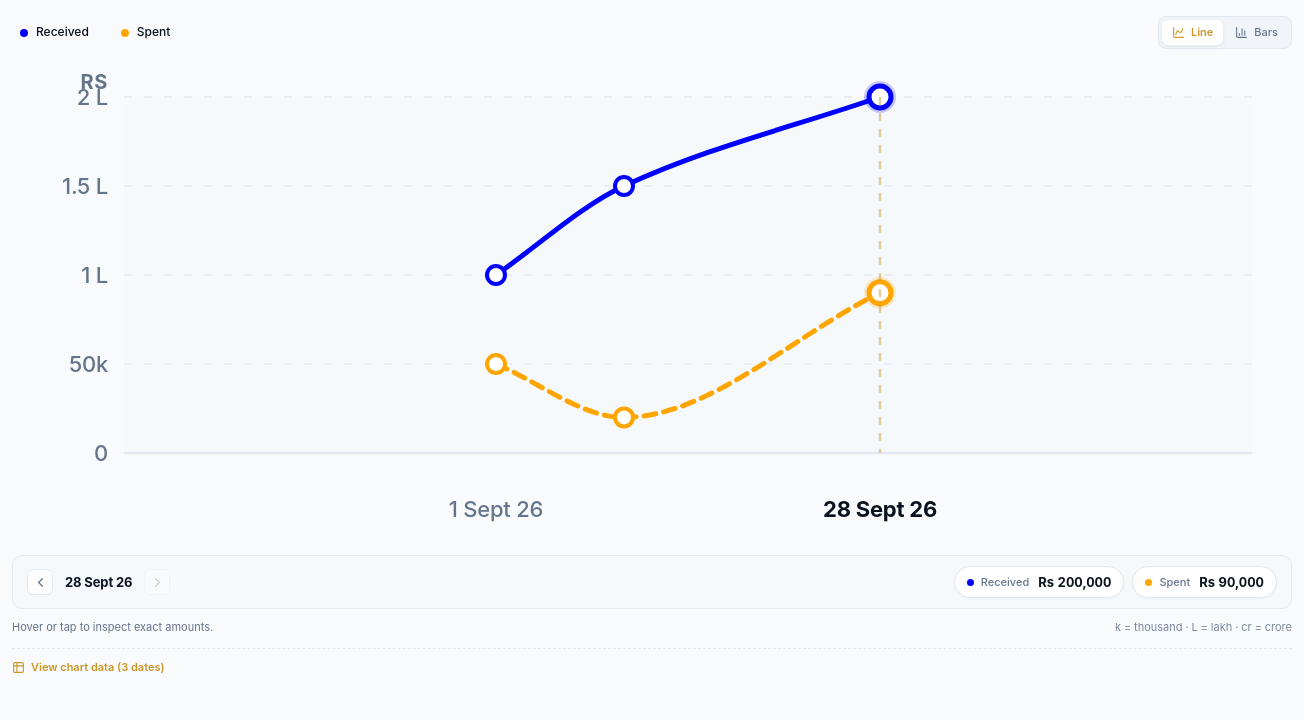
Scenario: shared charts › shows exact amounts, supports keyboard inspection, and changes chart type
The width and height of the screenshot is (1304, 720).
Expected: the text "Rs 200,000" is shown, x1=1038 y1=572 x2=1111 y2=592
Press ArrowLeft in the element named "Explore chart"
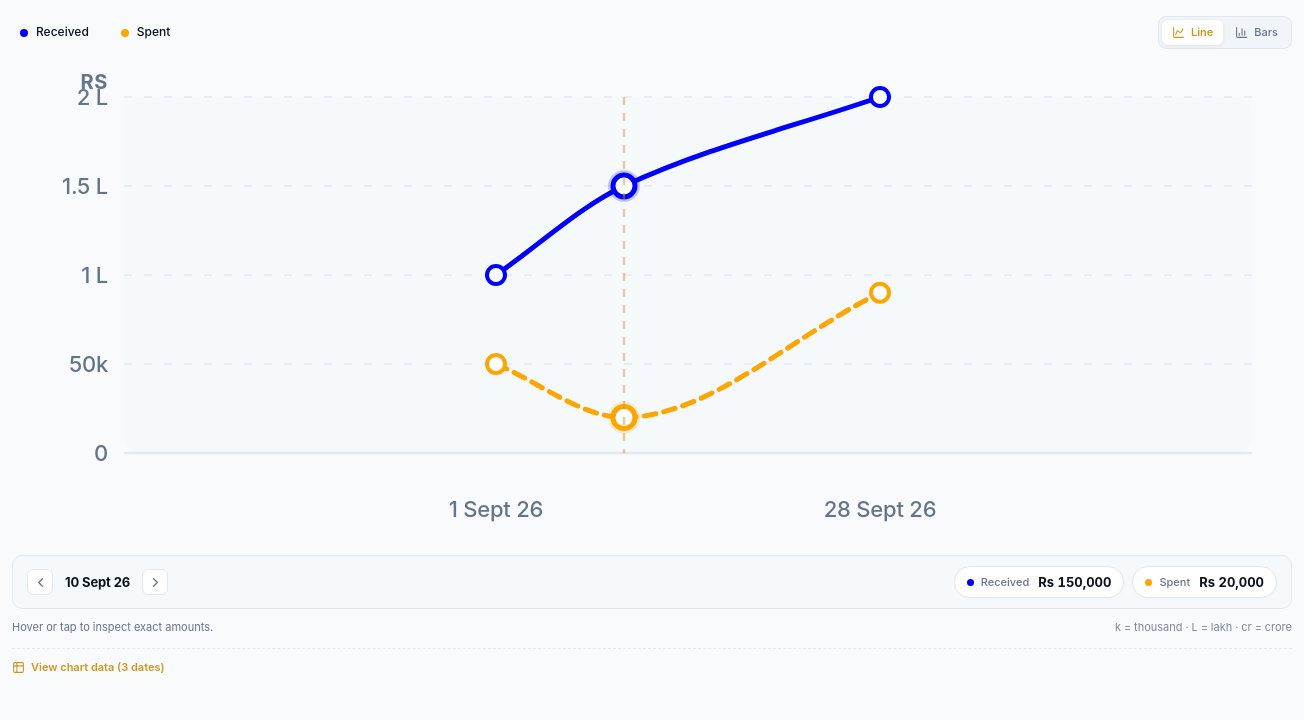
Result: the text "Rs 150,000" is shown at x1=1038 y1=572 x2=1111 y2=592
Press Home in the element named "Explore chart"
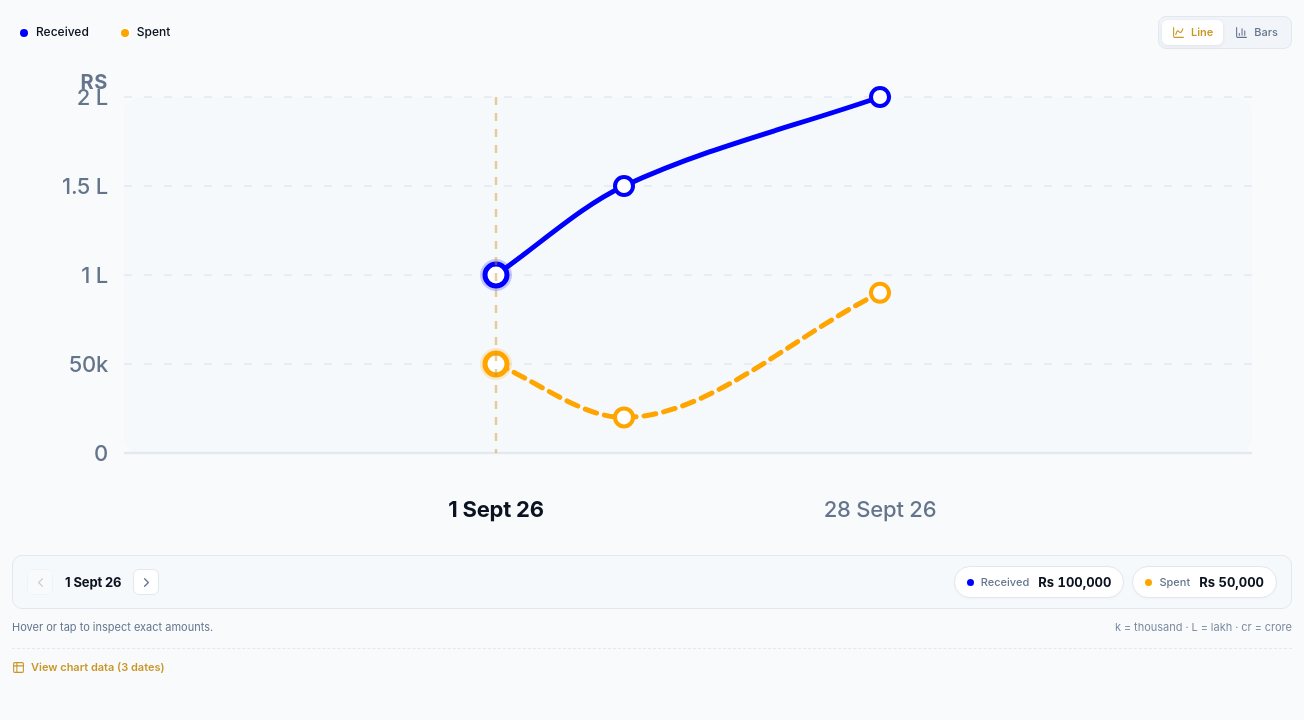
Result: the text "Rs 100,000" is shown at x1=1038 y1=572 x2=1111 y2=592
Click the button with aria-label "Show bar chart" at x=1257, y=32, box x1=1225 y1=20 x2=1288 y2=45
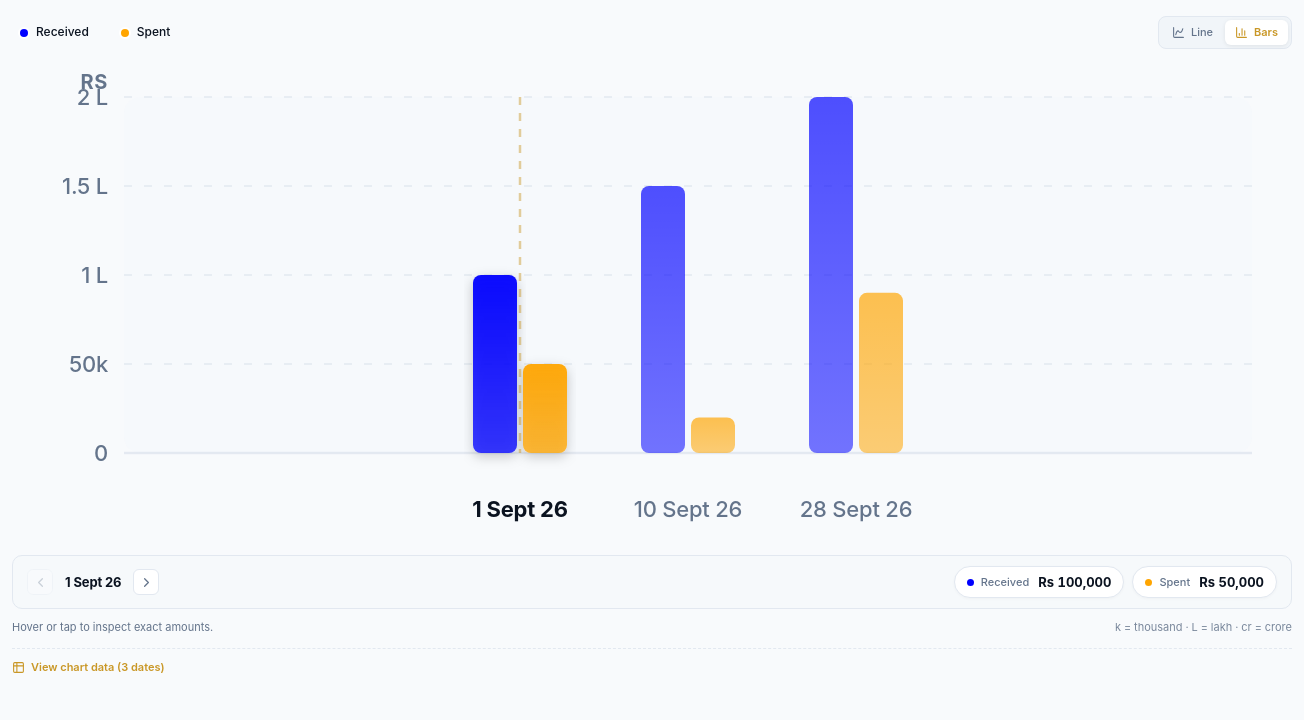
Result: the picture named "Bar chart. Activity" is shown
Click the button "Spent" at x=146, y=32, box x1=113 y1=19 x2=178 y2=46
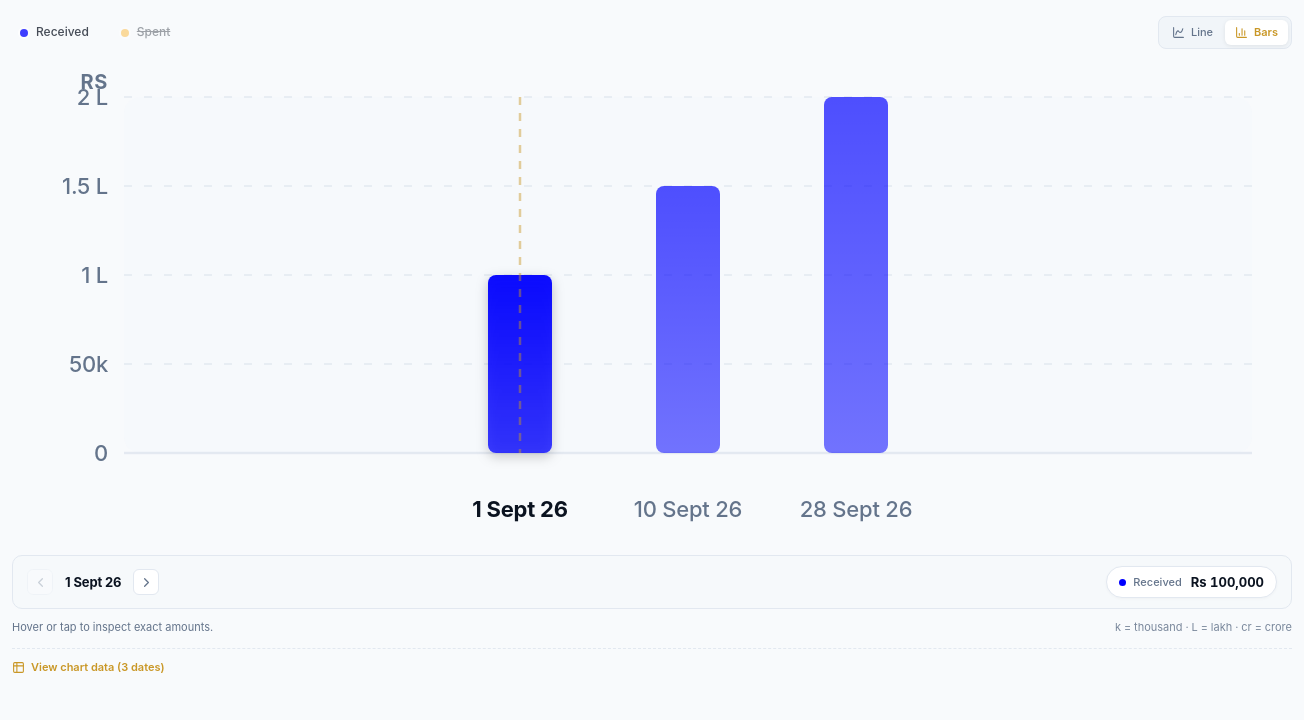
Result: the button "Received" is disabled at x1=12 y1=19 x2=97 y2=46
Click the heading "View chart data (3 dates)" at x=88, y=667, box x1=12 y1=660 x2=165 y2=674
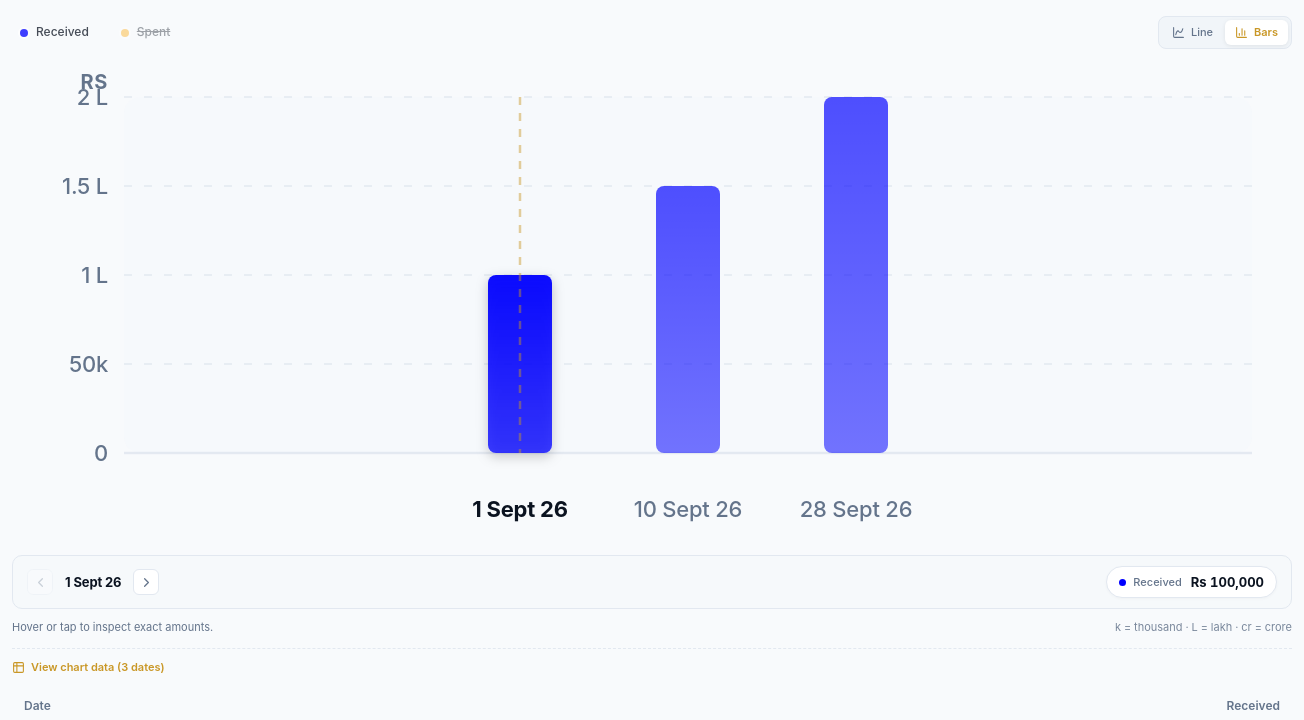
Result: the number of rows is 4
